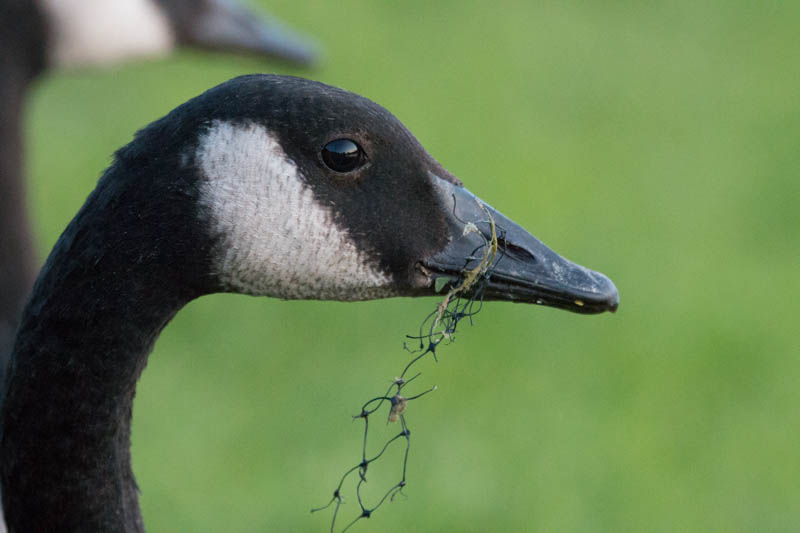goose-head: (136, 71, 619, 316)
